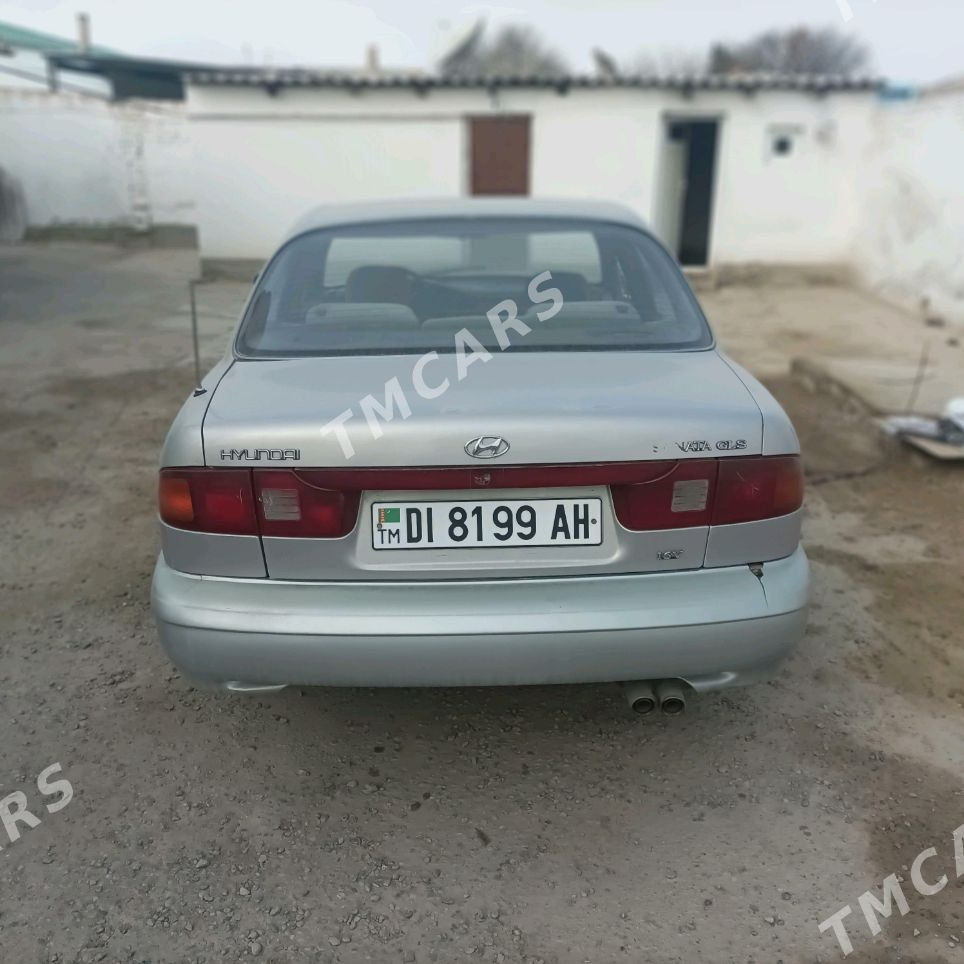license plate: (370, 499, 605, 550)
truck: (155, 197, 810, 719)
